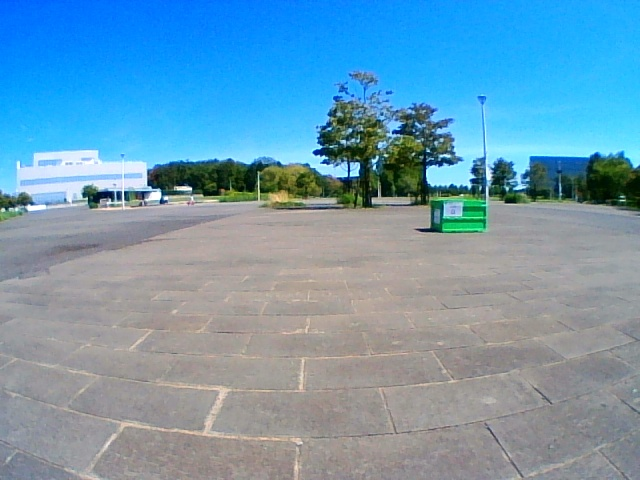green_box: (429, 197, 485, 231)
tag: (444, 203, 460, 216)
